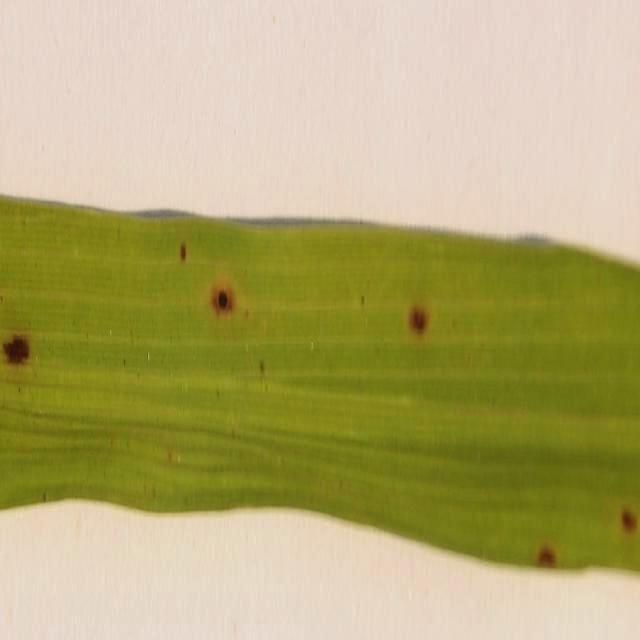Brownspot: (3, 335, 29, 363), (409, 307, 428, 333), (212, 288, 232, 312), (537, 545, 555, 567), (621, 509, 636, 532), (180, 242, 186, 261), (259, 360, 264, 373), (167, 450, 172, 462), (245, 309, 249, 317), (361, 295, 364, 305)
